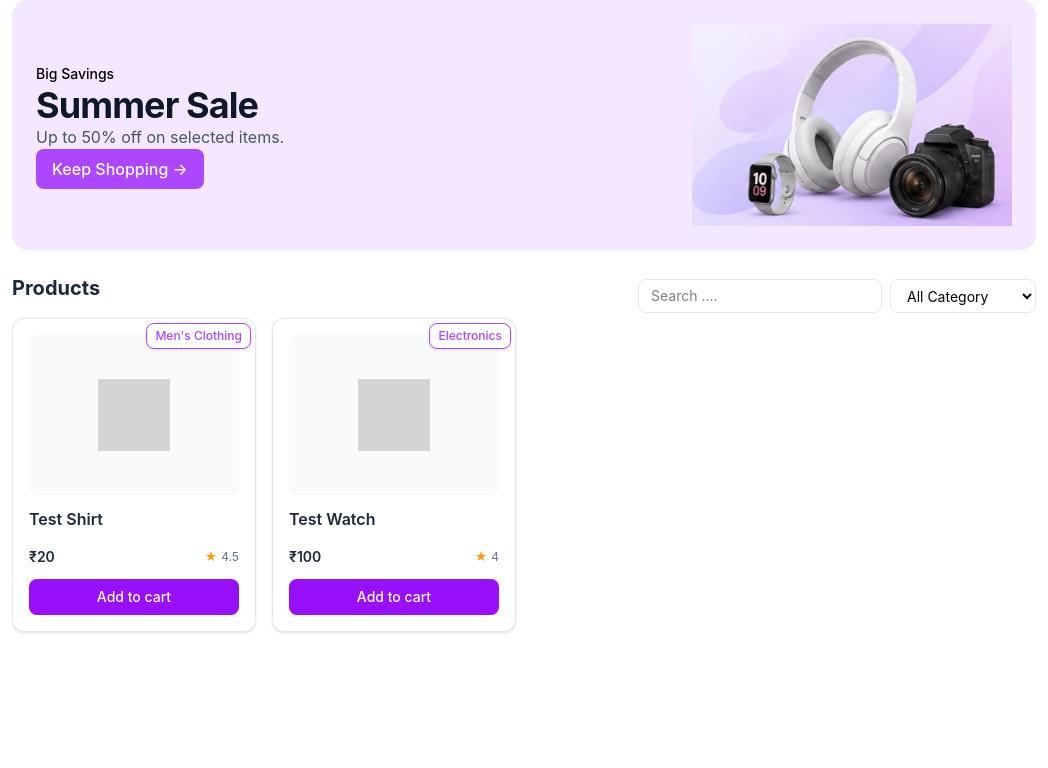
Test: ProductList › filters products by category
Check: the heading "Test Shirt" is shown, box [29,509,103,529]
Select "electronics" in the dropdown at [963, 296], box [890,279,1036,313]
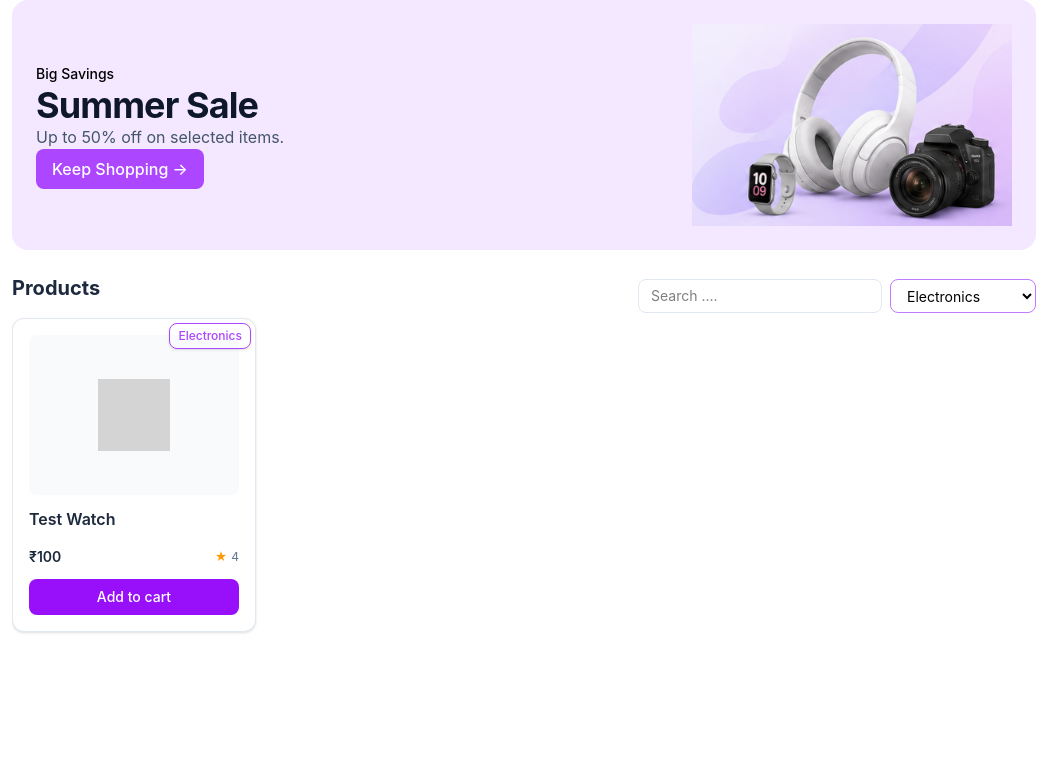
Check: the heading "Test Watch" is shown, box [29,509,116,529]
Check: the heading "Test Shirt" is gone
